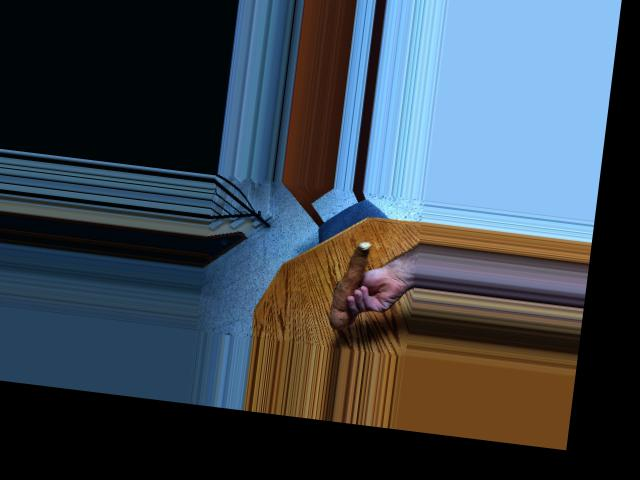sweet_potato: (324, 242, 374, 328)
